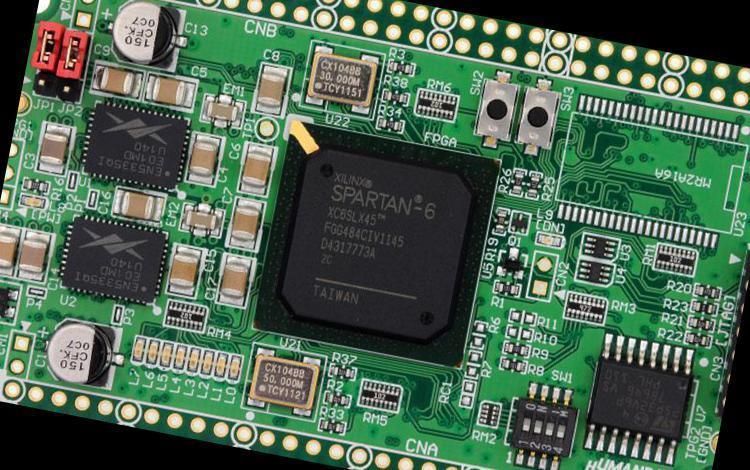Button: (470, 65, 523, 150), (510, 73, 563, 157)
Capacitor: (250, 61, 292, 117), (32, 121, 73, 176), (162, 243, 202, 299), (14, 228, 55, 282), (182, 129, 222, 184), (235, 141, 274, 197), (89, 62, 146, 100), (110, 185, 167, 223), (225, 197, 265, 251), (214, 254, 254, 308), (144, 73, 197, 113), (0, 222, 23, 279)
Connector: (43, 0, 749, 119), (0, 368, 703, 469), (714, 246, 749, 416), (0, 138, 26, 210), (525, 250, 558, 301), (3, 331, 33, 376), (52, 74, 83, 103), (69, 0, 99, 29), (29, 66, 57, 96)
Diode: (0, 277, 23, 326)
Electrolytic Capacitor: (100, 0, 193, 74), (44, 315, 123, 391)
IC: (248, 120, 499, 371), (577, 331, 698, 465), (53, 208, 173, 308), (77, 96, 193, 193), (571, 257, 614, 288), (578, 231, 619, 260)
Inductor: (506, 210, 530, 235)
Led: (212, 349, 230, 382), (224, 354, 243, 385), (153, 332, 170, 364), (535, 231, 565, 249), (15, 192, 46, 208), (185, 347, 202, 376), (157, 340, 173, 370), (199, 349, 215, 379), (130, 333, 145, 362), (144, 338, 159, 367)
Pads: (554, 92, 749, 251), (467, 317, 489, 350), (504, 305, 537, 326), (502, 321, 535, 342), (457, 379, 476, 409), (463, 349, 482, 378)
Resistor: (652, 241, 699, 276), (355, 380, 402, 414), (561, 292, 608, 325), (162, 298, 209, 331), (413, 88, 458, 122), (475, 399, 500, 428), (491, 278, 525, 298), (681, 330, 712, 349), (20, 173, 49, 193), (499, 340, 531, 358), (684, 315, 715, 332), (380, 89, 409, 107), (524, 170, 542, 199), (689, 299, 718, 317), (321, 389, 350, 407), (375, 116, 405, 133), (316, 418, 346, 435), (693, 282, 721, 300), (509, 167, 526, 196), (497, 356, 526, 373), (327, 363, 356, 380), (386, 58, 415, 75), (492, 205, 507, 235)
Switch: (504, 377, 581, 469)
Transistor: (492, 245, 529, 282)
